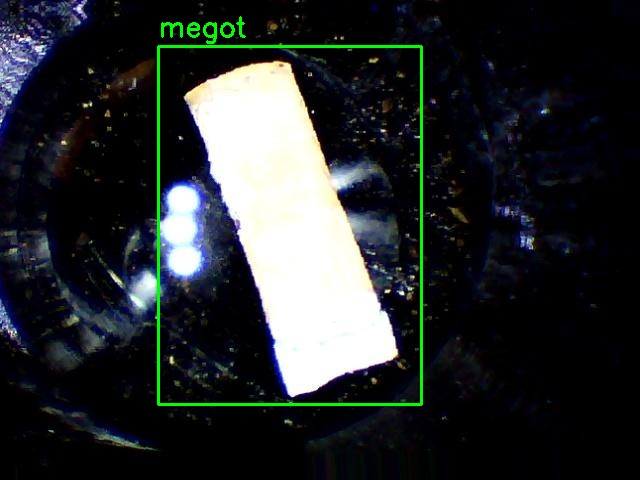megot: (158, 46, 421, 404)
